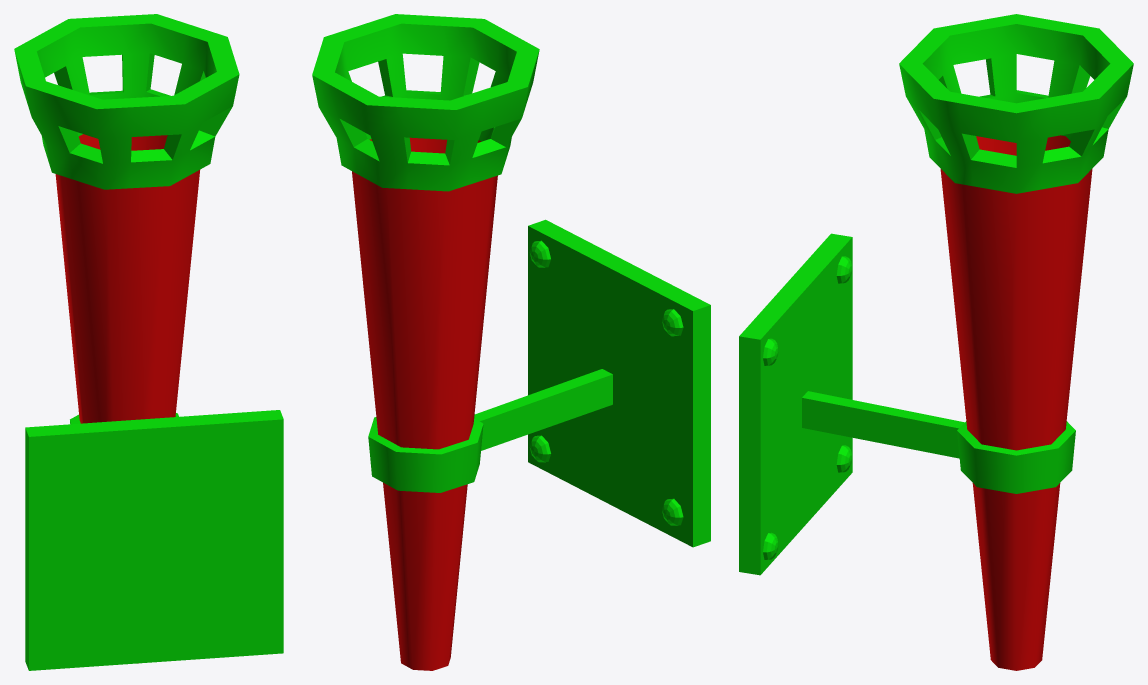
Rendered from Torch without Textures.fbx.
The picture shows the model from 3 angles, left to right: view 1: azimuth 30°, elevation 25°; view 2: azimuth 150°, elevation 25°; view 3: azimuth 270°, elevation 25°; orthographic projection.
Visible parts, largest first — view 1: pSphere5, Wood_GEO; view 2: pSphere5, Wood_GEO; view 3: pSphere5, Wood_GEO.
Boxes of the visible parts, bbox=[...] form: pSphere5: bbox=[14, 14, 283, 670]; Wood_GEO: bbox=[55, 134, 199, 663]; pSphere5: bbox=[312, 14, 710, 547]; Wood_GEO: bbox=[352, 137, 497, 670]; pSphere5: bbox=[739, 14, 1133, 575]; Wood_GEO: bbox=[940, 135, 1092, 670].
Bounding box in the file's own units: 53.27 × 104 × 62.16.
